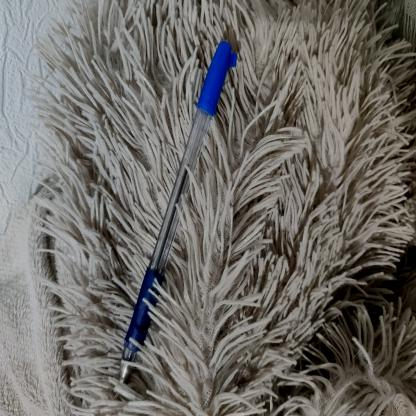pen: (72, 33, 228, 404)
